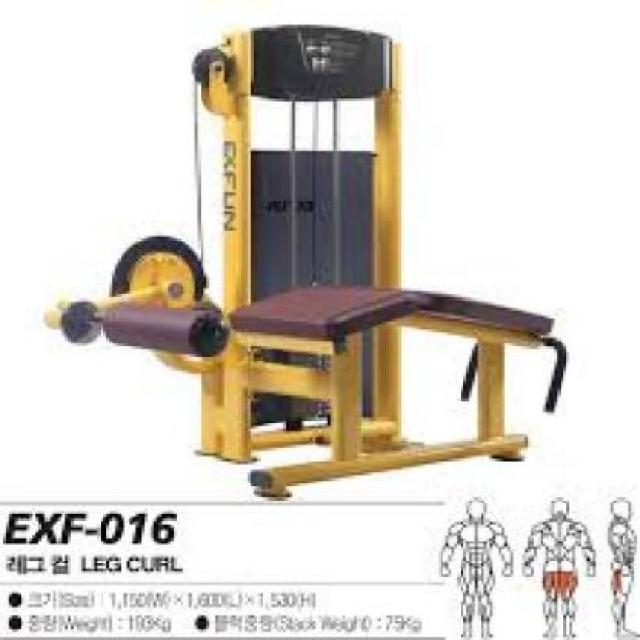reg curl machine: (43, 22, 574, 500)
